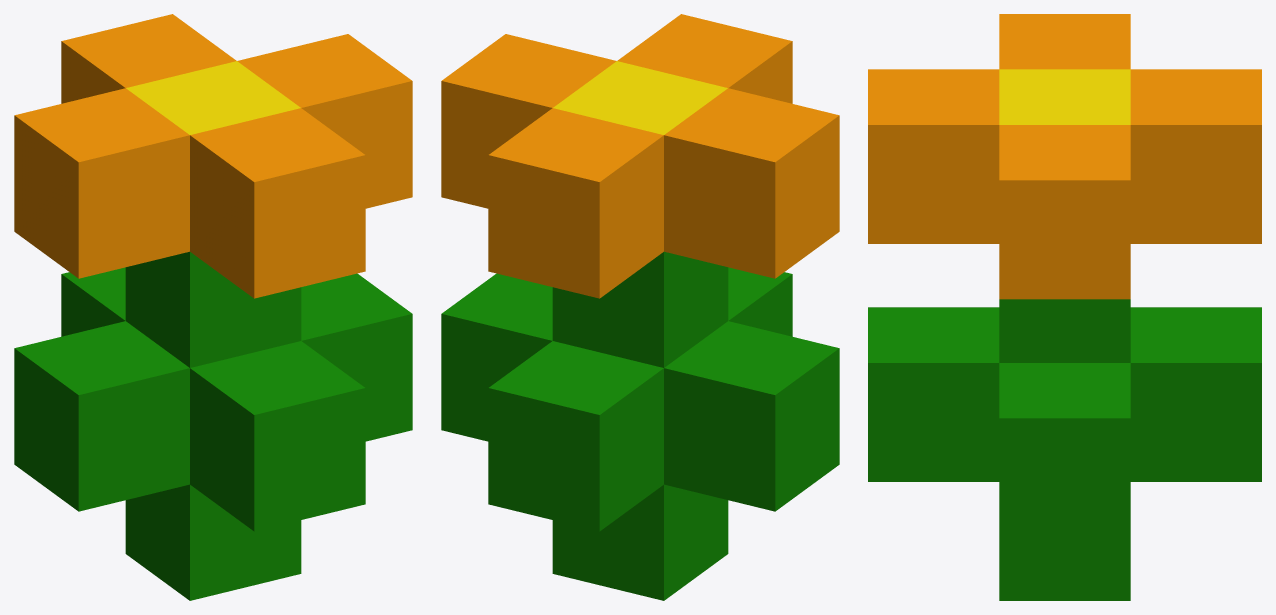
File: (8) Orange FlowerCup (Stage 5).obj
3 views of the same model, side by side, from view 1: azimuth 30°, elevation 25°; view 2: azimuth 150°, elevation 25°; view 3: azimuth 270°, elevation 25° (orthographic). The views are drawn at different scales.
Bounding box in the file's own units: 0.3 × 0.4 × 0.3.
Materials: 1 (1 with a texture image).
